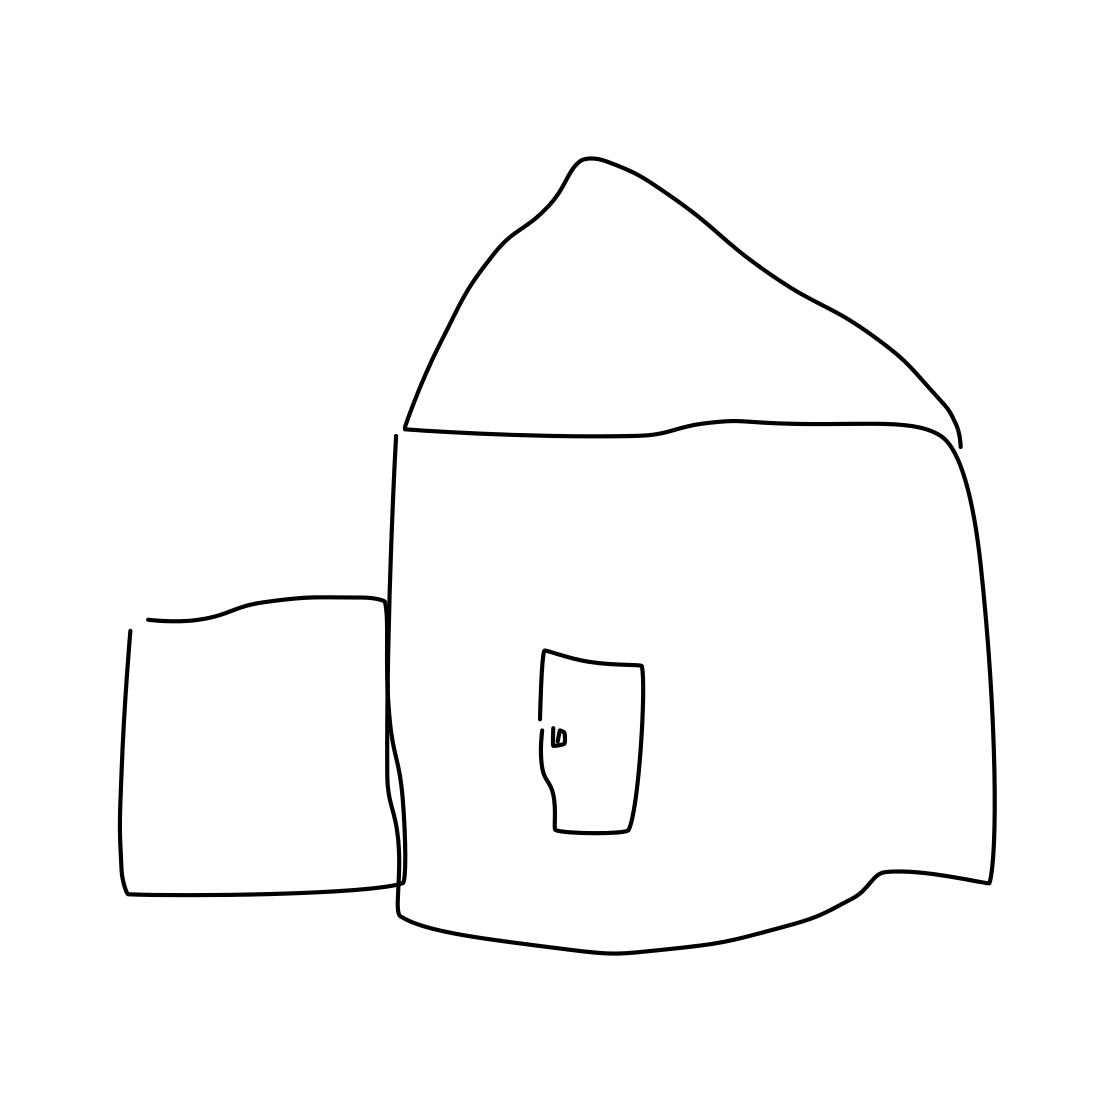House: (321, 163, 1080, 992)
